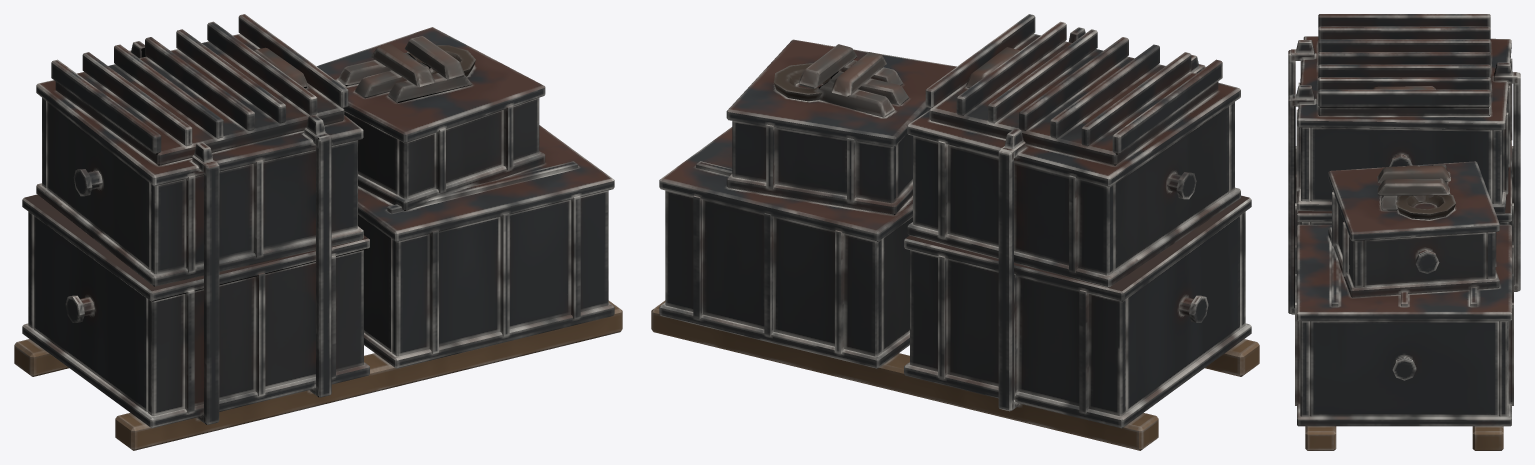
Rendered from foundry_mold.glb.
The picture shows the model from 3 angles, left to right: view 1: azimuth 30°, elevation 25°; view 2: azimuth 150°, elevation 25°; view 3: azimuth 270°, elevation 25°; orthographic projection. The views are drawn at different scales.
Parts seen in each view (by area): view 1: foundry_mold; view 2: foundry_mold; view 3: foundry_mold.
Boxes of the visible parts, x1,y1,x2,y2 form: foundry_mold: (14,14,622,450); foundry_mold: (651,14,1259,450); foundry_mold: (1288,14,1520,450).
Size of the model in its own units: 3.94 by 2.32 by 1.94.
1 material, 1 textured.
